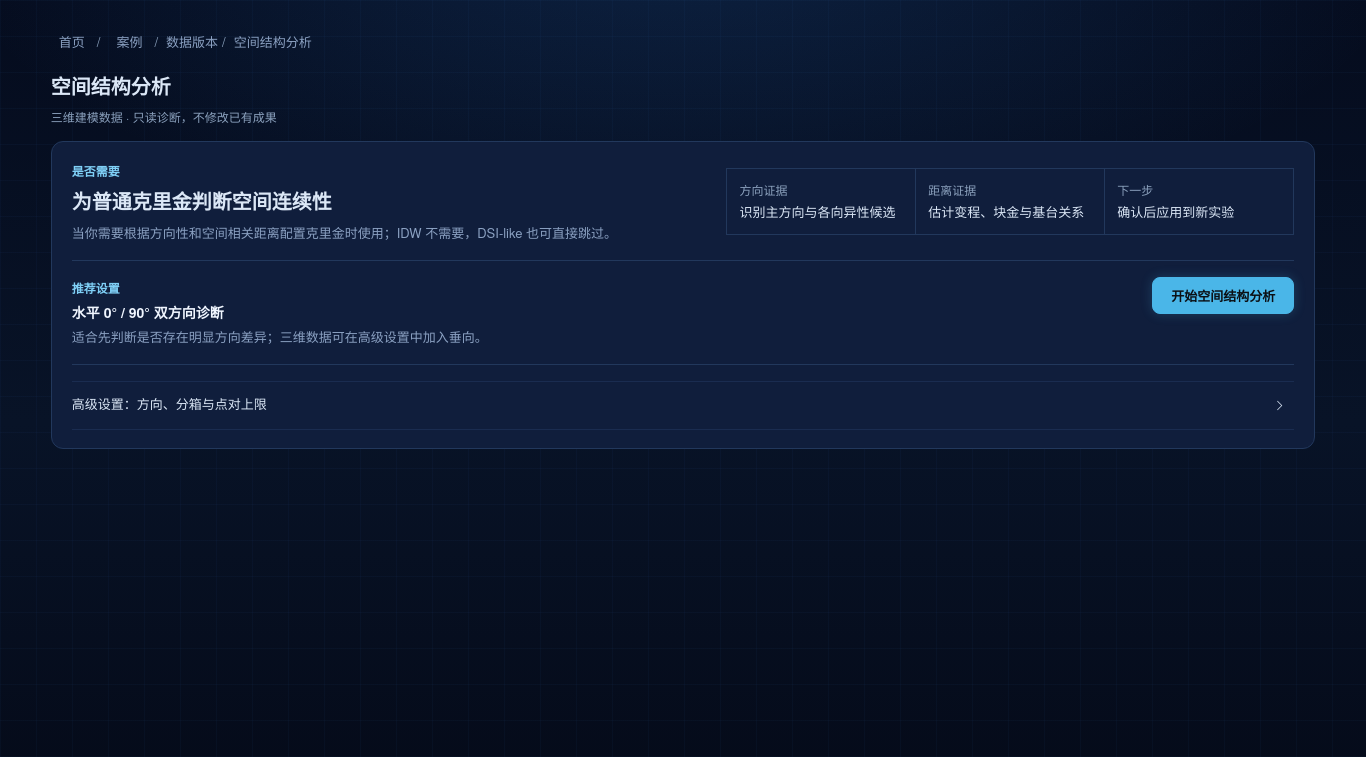
it: 诊断运行与证据展示 › 每个 bin 显示点对数，used_for_fit=false 的 bin 视觉区分并披露排除原因
Click the button with test id "start-diagnosis": (1223, 295) x1=1152 y1=277 x2=1294 y2=314
Wait 2000 ms
(page scrolled)
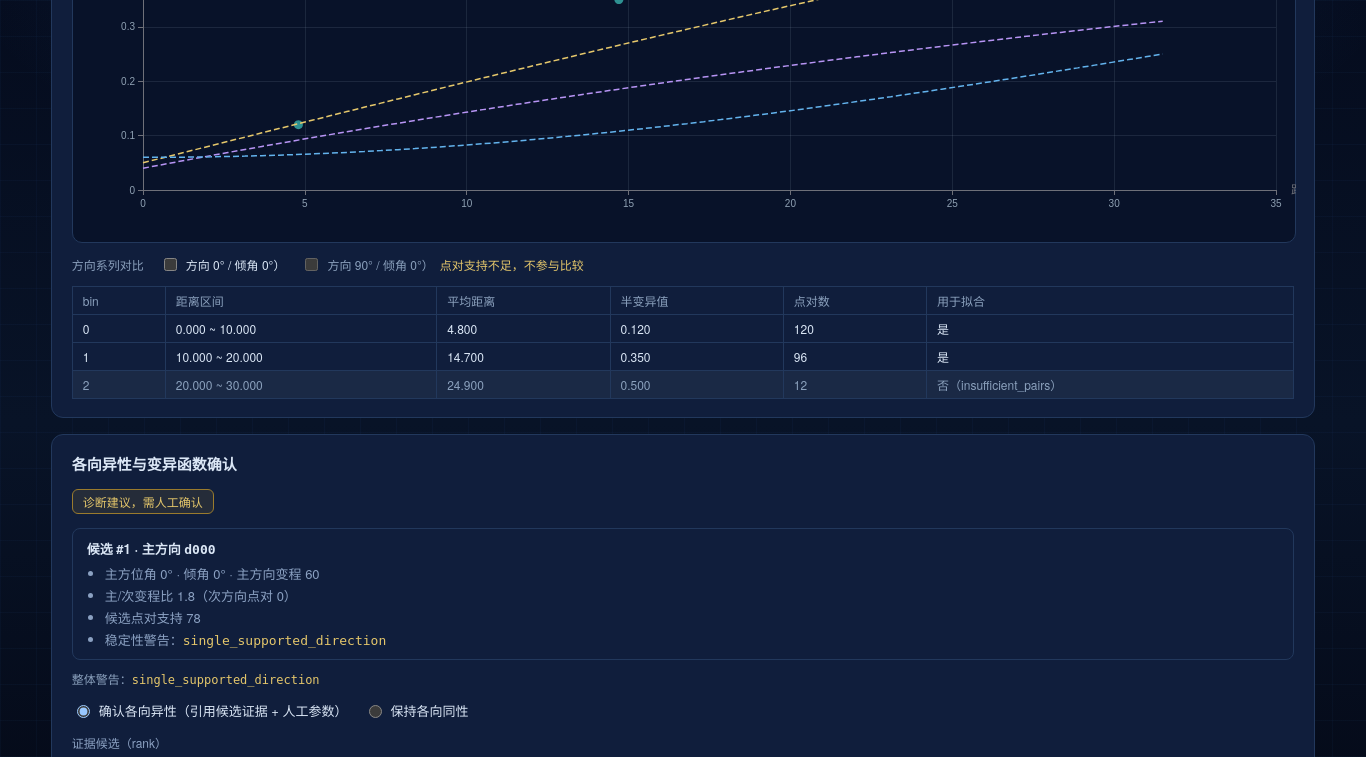
Result: the number of rows with test id "omni-bin-row" is 3 at x1=72 y1=314 x2=1294 y2=342; x1=72 y1=342 x2=1294 y2=370; x1=72 y1=370 x2=1294 y2=398
Result: the row with test id "omni-bin-row" shows "120" at x1=794 y1=320 x2=814 y2=337
Result: the row with test id "omni-bin-row" shows "96" at x1=794 y1=348 x2=807 y2=365
